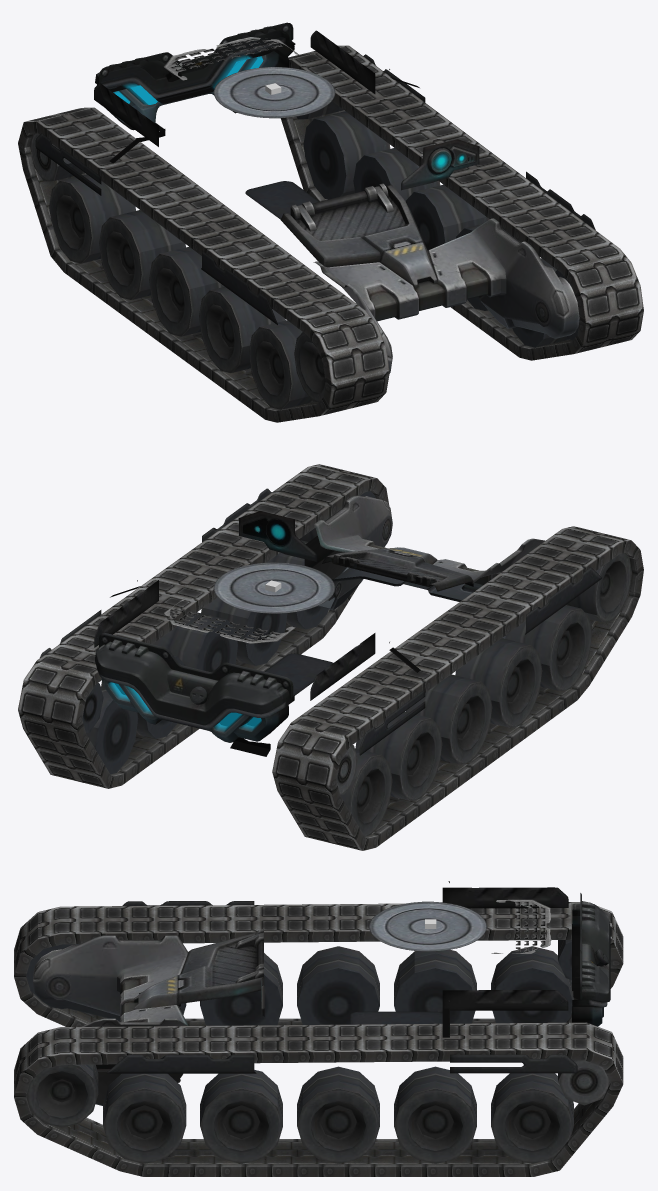
The model's file is Wasp_Standart.fbx.
3 views of the same model, one above another, from view 1: azimuth 30°, elevation 25°; view 2: azimuth 150°, elevation 25°; view 3: azimuth 270°, elevation 25° (orthographic). The views are drawn at different scales.
Visible parts, largest first — view 1: Hull, rTrack, lTrack, rwheel_4, lwheel_5, rwheel_5, rwheel_3, rwheel_2, rwheel_1, lwheel_3, lwheel_4, rwheel_f (+2 smaller); view 2: Hull, rTrack, lTrack, rwheel_2, rwheel_3, rwheel_1, rwheel_4, lwheel_3, rwheel_5, lwheel_2, lwheel_5, rwheel_f (+4 smaller); view 3: Hull, lTrack, rTrack, lwheel_3, lwheel_4, lwheel_2, lwheel_1, lwheel_5, rwheel_3, rwheel_4, rwheel_5, lwheel_f (+3 smaller).
Boxes of the visible parts, x1=… form: Hull: x1=35, y1=22, x2=595, y2=373; rTrack: x1=18, y1=107, x2=389, y2=422; lTrack: x1=280, y1=45, x2=643, y2=360; rwheel_4: x1=99, y1=210, x2=185, y2=299; lwheel_5: x1=303, y1=111, x2=390, y2=199; rwheel_5: x1=49, y1=174, x2=135, y2=263; rwheel_3: x1=149, y1=247, x2=224, y2=336; rwheel_2: x1=199, y1=286, x2=285, y2=372; rwheel_1: x1=249, y1=320, x2=313, y2=409; lwheel_3: x1=406, y1=184, x2=489, y2=250; lwheel_4: x1=353, y1=148, x2=440, y2=201; rwheel_f: x1=294, y1=332, x2=325, y2=402; Hull: x1=40, y1=488, x2=601, y2=756; rTrack: x1=272, y1=526, x2=643, y2=850; lTrack: x1=18, y1=464, x2=389, y2=788; rwheel_2: x1=455, y1=638, x2=542, y2=727; rwheel_3: x1=405, y1=674, x2=492, y2=764; rwheel_1: x1=505, y1=605, x2=592, y2=691; rwheel_4: x1=355, y1=712, x2=442, y2=800; lwheel_3: x1=152, y1=612, x2=237, y2=671; rwheel_5: x1=340, y1=748, x2=392, y2=836; lwheel_2: x1=201, y1=597, x2=287, y2=665; lwheel_5: x1=86, y1=686, x2=138, y2=774; rwheel_f: x1=566, y1=553, x2=631, y2=622; Hull: x1=33, y1=881, x2=610, y2=1105; lTrack: x1=14, y1=1022, x2=623, y2=1176; rTrack: x1=14, y1=902, x2=623, y2=1026; lwheel_3: x1=297, y1=1066, x2=379, y2=1163; lwheel_4: x1=394, y1=1066, x2=476, y2=1163; lwheel_2: x1=200, y1=1070, x2=282, y2=1163; lwheel_1: x1=103, y1=1073, x2=186, y2=1163; lwheel_5: x1=491, y1=1073, x2=573, y2=1163; rwheel_3: x1=297, y1=946, x2=379, y2=1024; rwheel_4: x1=394, y1=949, x2=476, y2=1023; rwheel_5: x1=491, y1=946, x2=573, y2=1023; lwheel_f: x1=26, y1=1064, x2=98, y2=1127.
Size of the model in its own units: 3.6 by 1.83 by 5.77.
